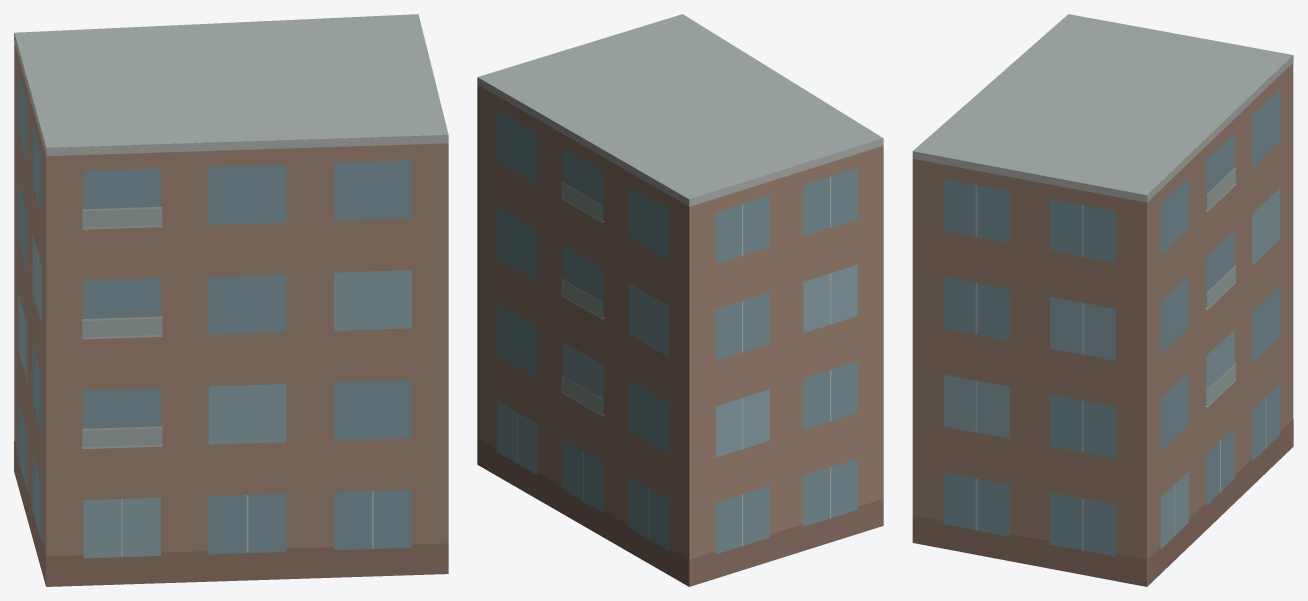
The model's file is survey-upis-32984727.glb.
3 renders of one model, left to right at view 1: azimuth 30°, elevation 25°; view 2: azimuth 150°, elevation 25°; view 3: azimuth 270°, elevation 25°, orthographic. The views are drawn at different scales.
Parts seen in each view (by area): view 1: survey-upis-32984727.tmp; view 2: survey-upis-32984727.tmp; view 3: survey-upis-32984727.tmp.
Boxes of the visible parts, x1=… form: survey-upis-32984727.tmp: x1=14, y1=14, x2=448, y2=586; survey-upis-32984727.tmp: x1=477, y1=14, x2=883, y2=586; survey-upis-32984727.tmp: x1=912, y1=14, x2=1293, y2=586.
Bounding box in the file's own units: 12.71 × 12.8 × 11.29.
